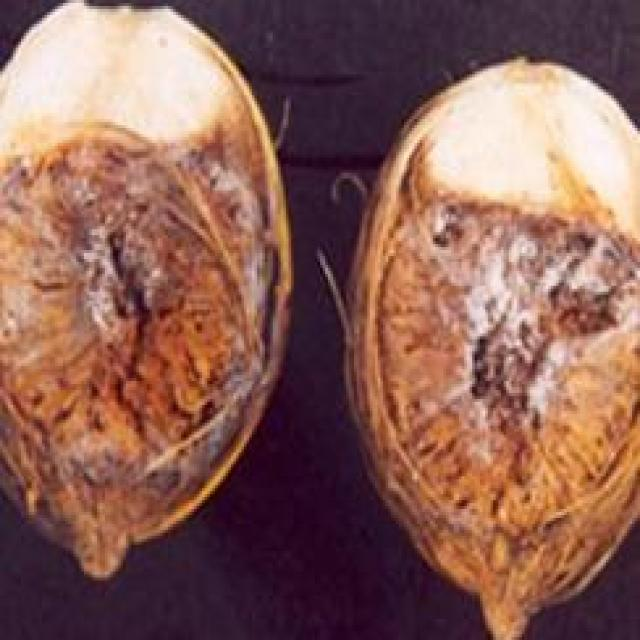damaged: (346, 57, 637, 637), (0, 3, 291, 575)
